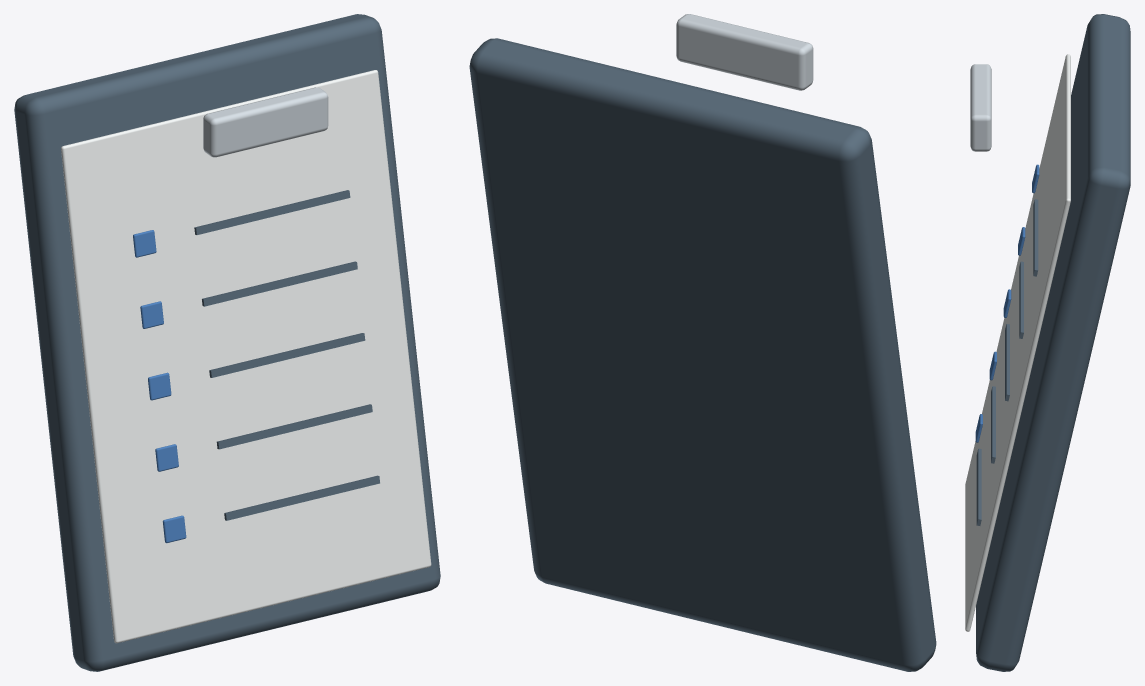
File: fire-rollcall.glb
3 views of the same model, side by side, from view 1: azimuth 30°, elevation 25°; view 2: azimuth 150°, elevation 25°; view 3: azimuth 270°, elevation 25° (orthographic). The views are drawn at different scales.
Parts seen in each view (by area): view 1: fire-rollcall; view 2: fire-rollcall; view 3: fire-rollcall.
Part boxes in pixels (<box>): fire-rollcall: <box>14,14,440,671</box>; fire-rollcall: <box>469,14,936,671</box>; fire-rollcall: <box>965,14,1130,671</box>.
Size of the model in its own units: 0.22 by 0.316 by 0.0938.
